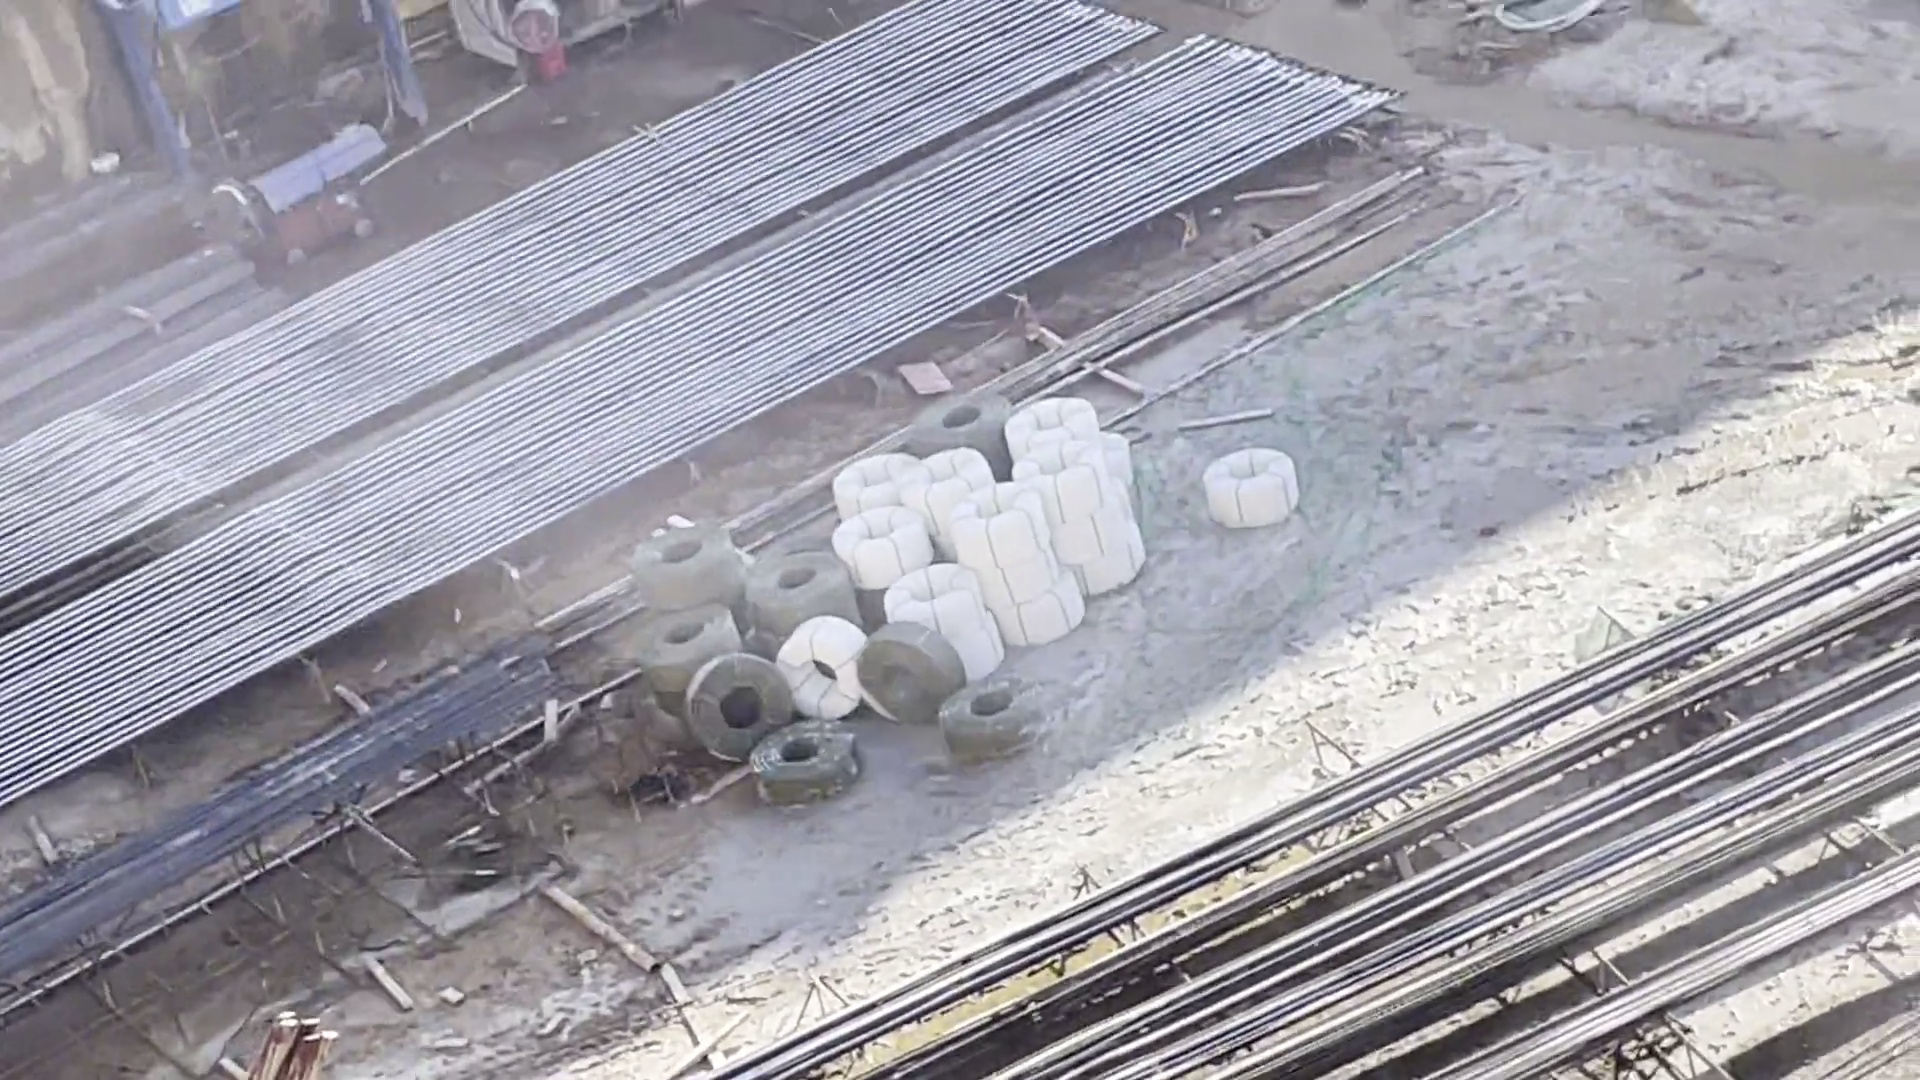rebar: (645, 488, 1920, 1080)
